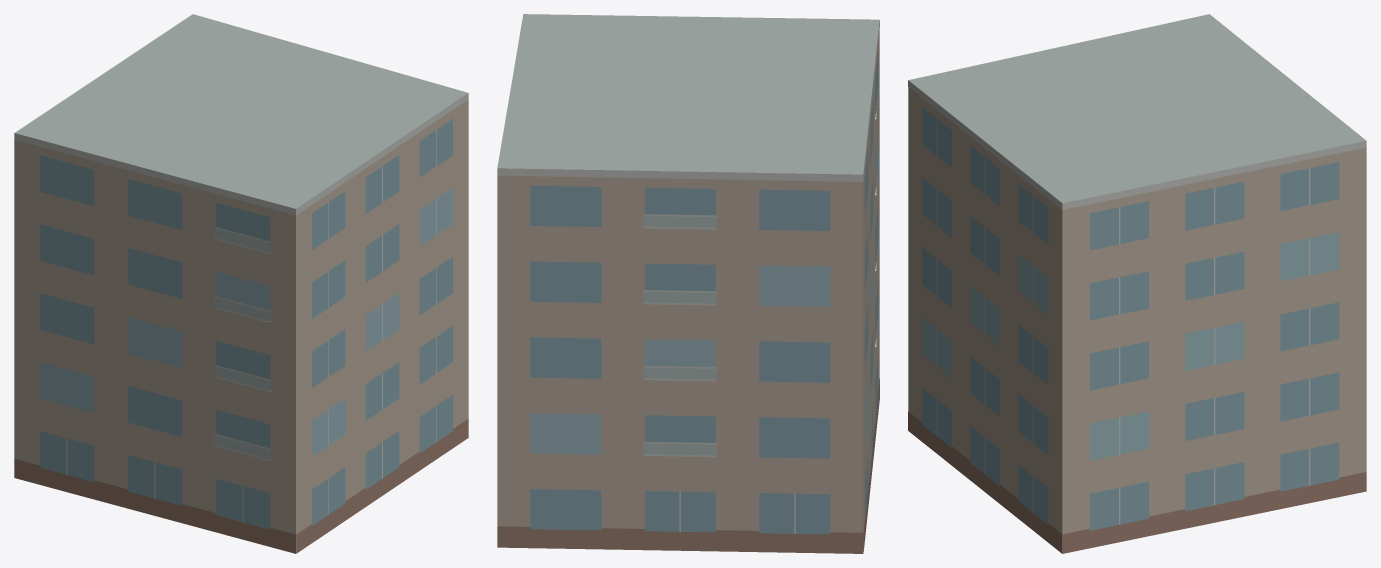
File: survey-upis-32741664.glb
3 renders of one model, left to right at view 1: azimuth 30°, elevation 25°; view 2: azimuth 150°, elevation 25°; view 3: azimuth 270°, elevation 25°, orthographic. The views are drawn at different scales.
Parts seen in each view (by area): view 1: survey-upis-32741664.tmp; view 2: survey-upis-32741664.tmp; view 3: survey-upis-32741664.tmp.
Part boxes in pixels (box(x1,y1,x2,y2)): survey-upis-32741664.tmp: box(14, 14, 468, 553); survey-upis-32741664.tmp: box(497, 14, 879, 553); survey-upis-32741664.tmp: box(908, 14, 1366, 553).
Size of the model in its own units: 14.86 by 12.82 by 15.2.
